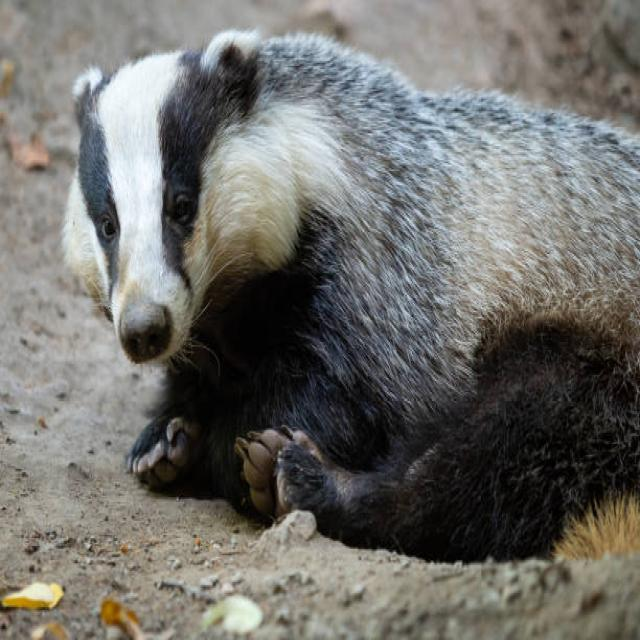Badger: (60, 42, 640, 558)
